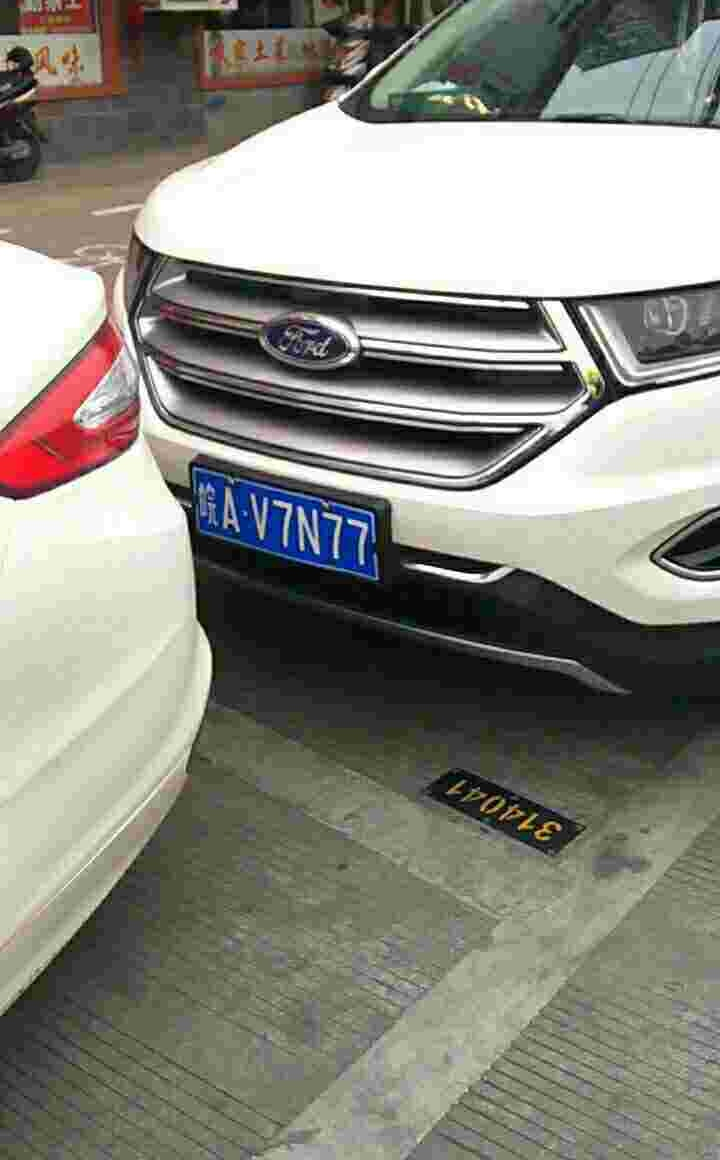license_plate: (197, 471, 384, 585)
